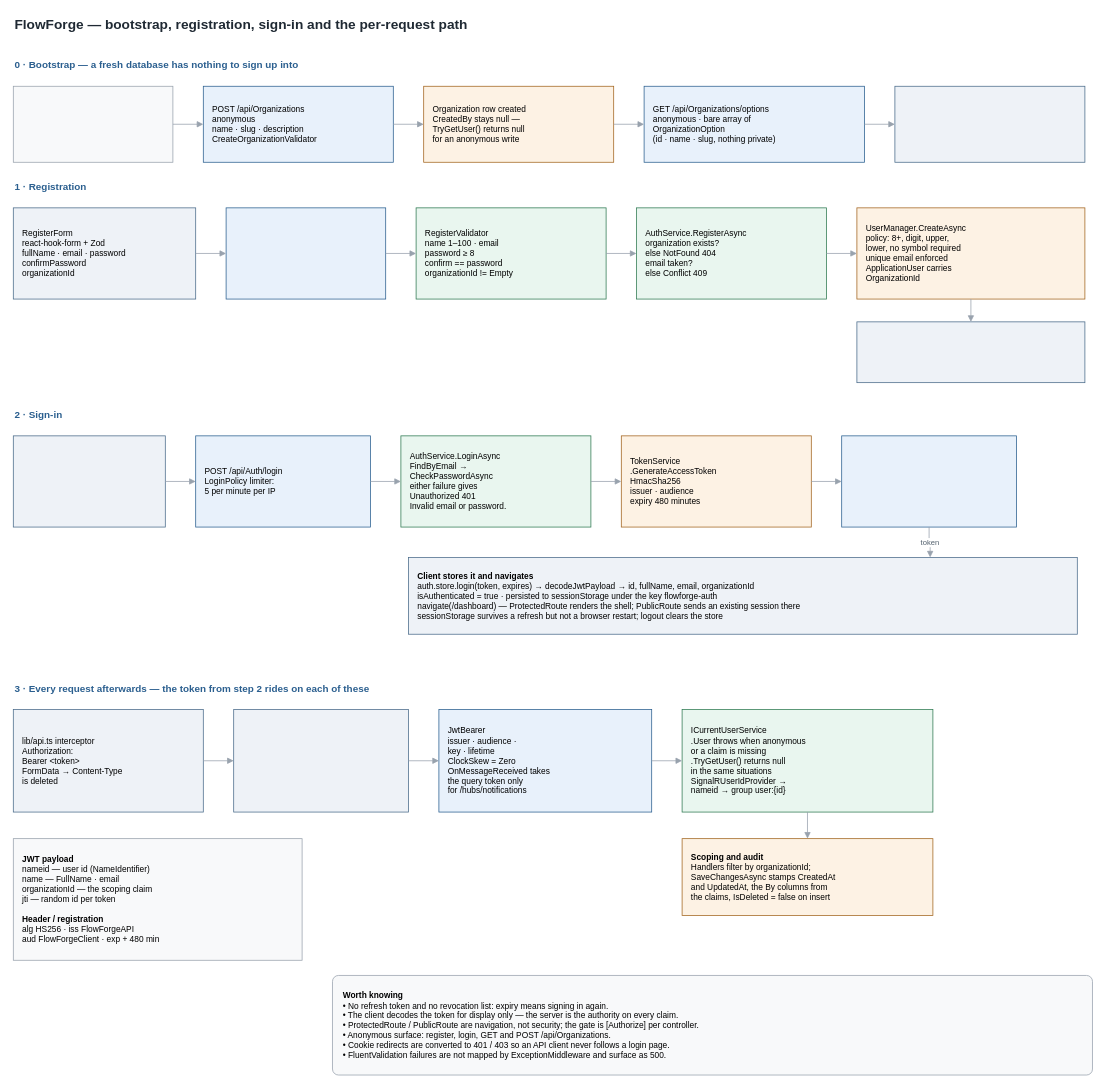
Image size: 1106x1088. Some labels were removed from this diagram. The centre of each missing label's shape, as x and y in pixels:
Empty database no Organization row: [93,124]
LoginForm useLogin (useMutation): [89,481]
LoginResponse { accessToken, expiresAtUtc }: [928,481]
POST /api/Auth/register anonymous: [305,253]
PresenceContext accessTokenFactory → ?access_token=… on the WebSocket handshake: [320,760]
RegisterResponse toast: Account created card flips back to Sign in: [970,352]
The Workspace select on the register face now has something to offer: [989,124]
